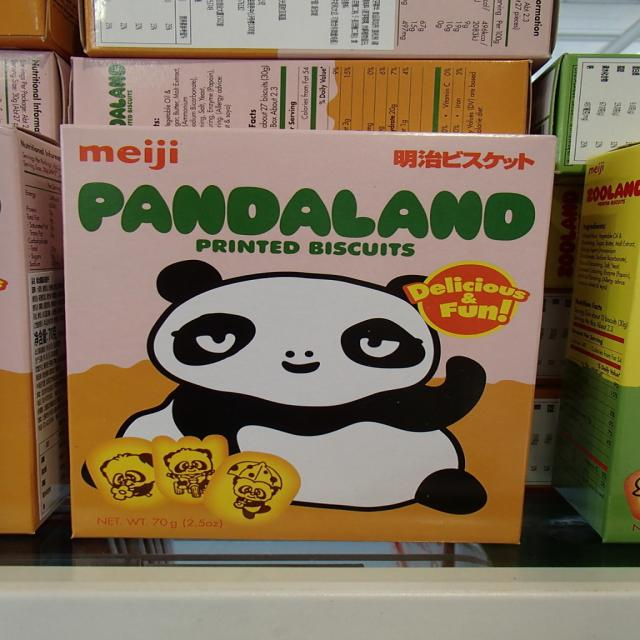panda: (79, 259, 486, 517)
